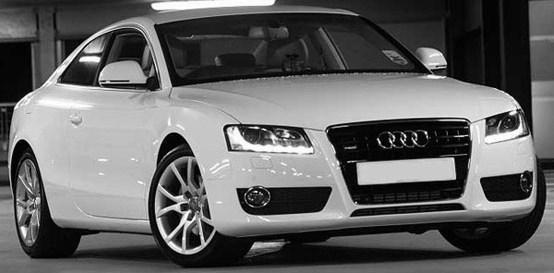car: (8, 5, 547, 267)
